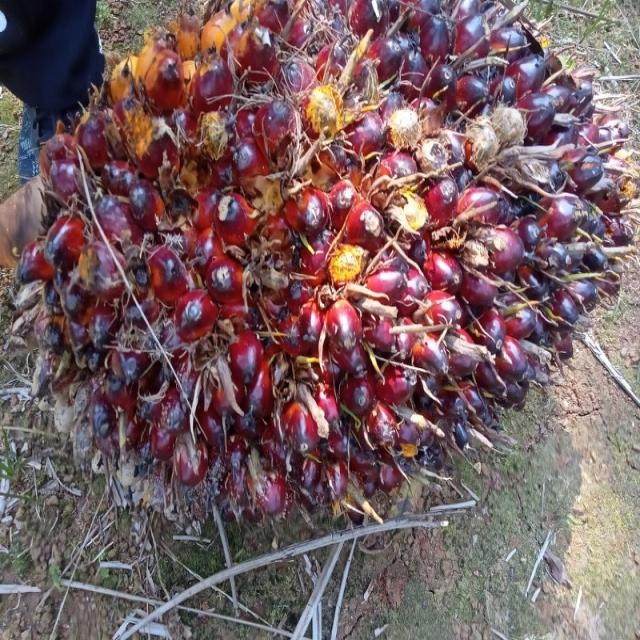fraksi 1: (9, 13, 637, 546)
